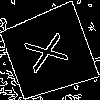X: (24, 27, 78, 75)
